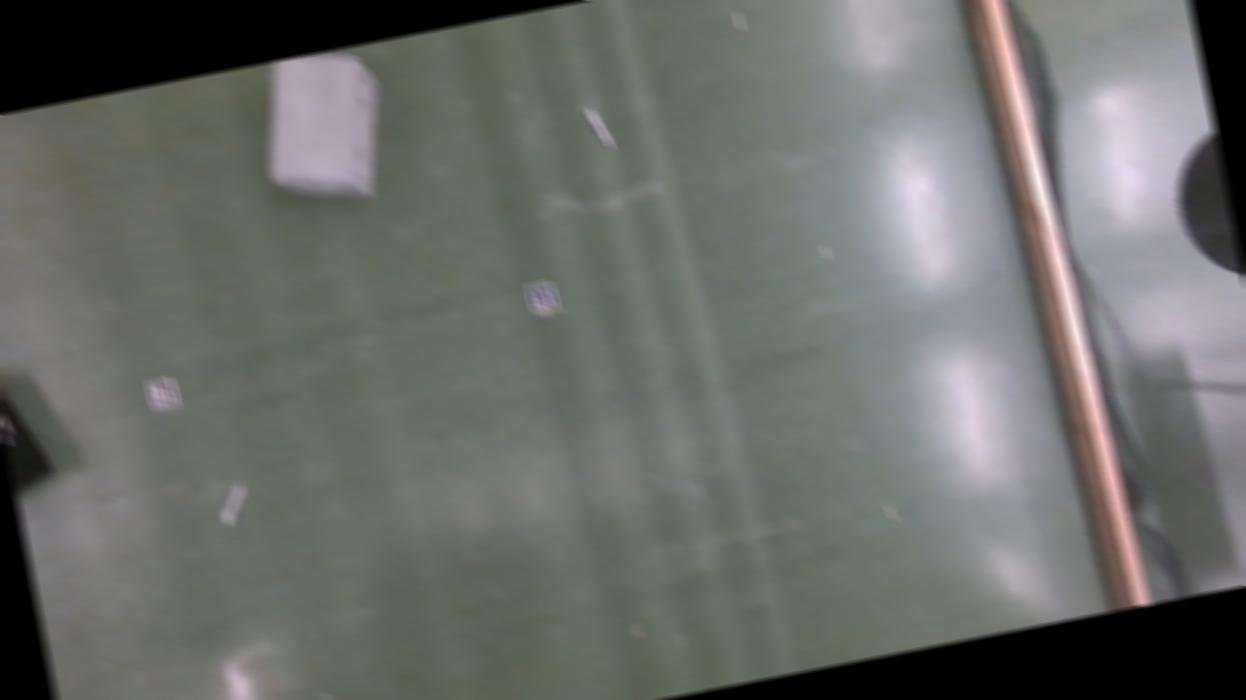probes: (586, 105, 616, 155), (219, 484, 250, 526)
rako: (248, 43, 399, 217), (0, 364, 57, 503)
